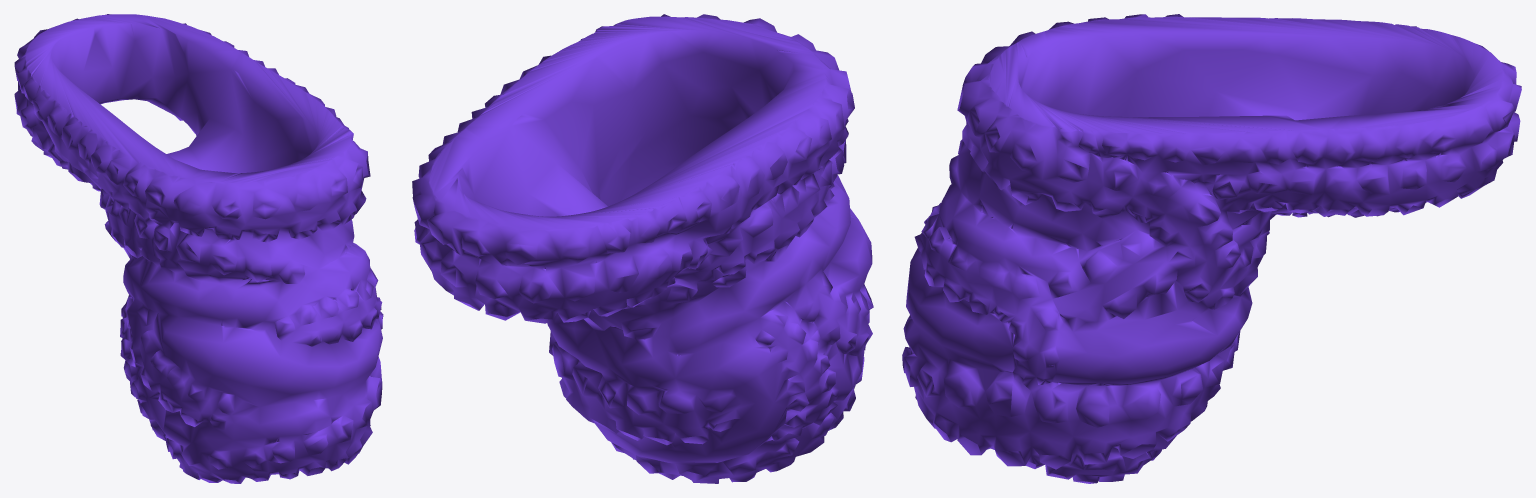
The model's file is tentacle-well-ar.glb.
The picture shows the model from 3 angles, left to right: view 1: azimuth 30°, elevation 25°; view 2: azimuth 150°, elevation 25°; view 3: azimuth 270°, elevation 25°; orthographic projection. The views are drawn at different scales.
Size of the model in its own units: 0.0543 by 0.0731 by 0.106.
